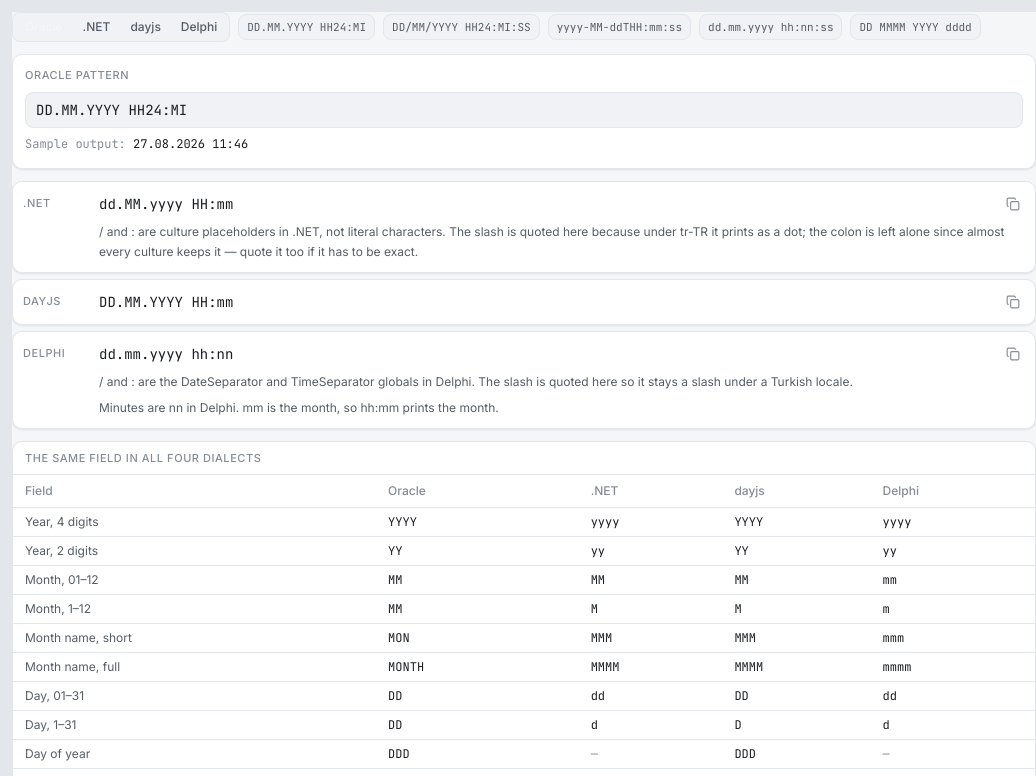
Test: DateFormatTool › karşılığı olmayan alanı adıyla bildirir
This screenshot has width=1036, height=776.
Step 1. Type "YYYY Q" into the field → (524, 110), box [25,92,1023,128]
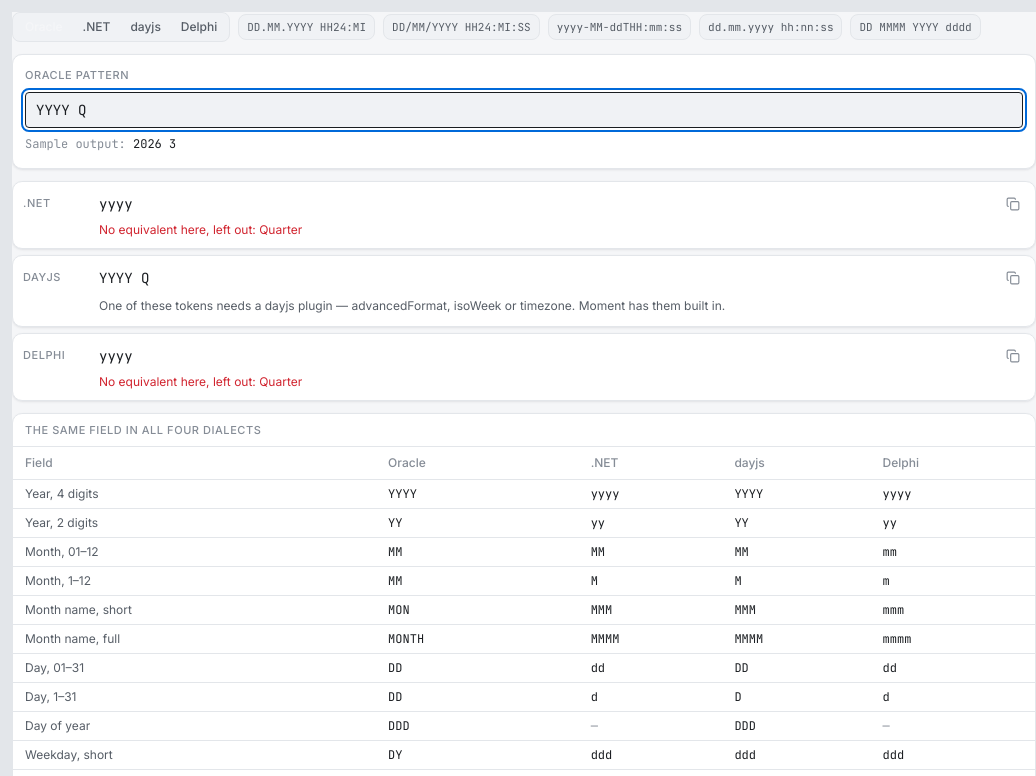
Expected: the 1st text "No equivalent here, left out: Quarter" is shown, [99,222,302,236]
